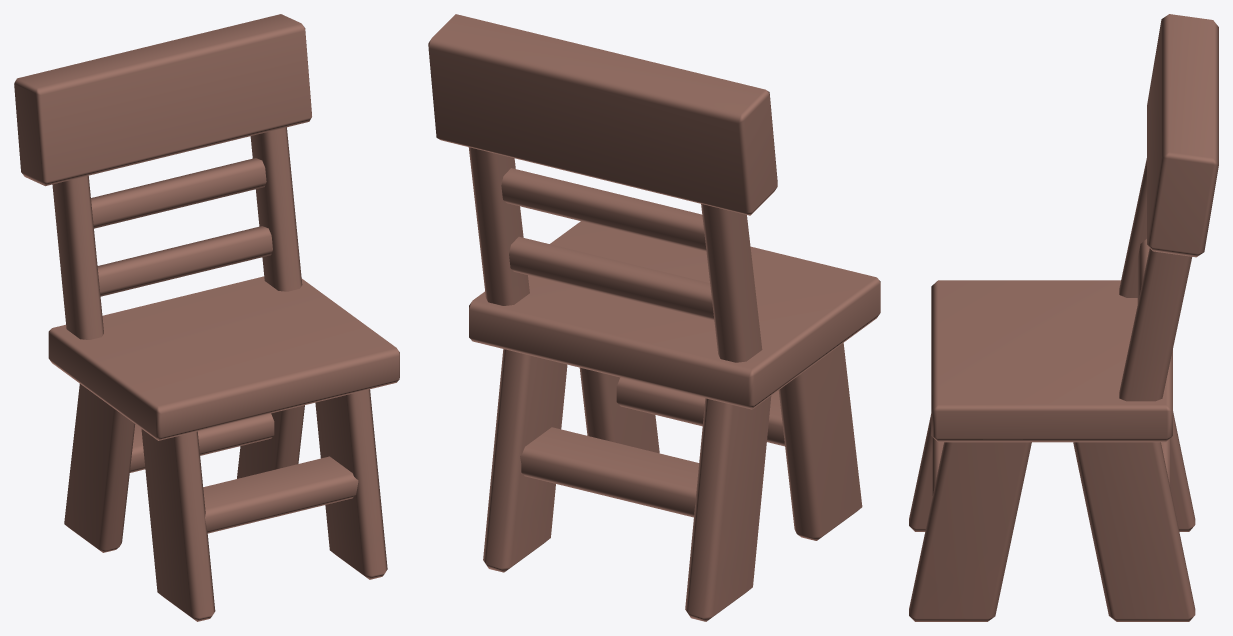
The model's file is Store_5_Chair_1.glb.
The picture shows the model from 3 angles, left to right: view 1: azimuth 30°, elevation 25°; view 2: azimuth 150°, elevation 25°; view 3: azimuth 270°, elevation 25°; orthographic projection. The views are drawn at different scales.
Visible parts, largest first — view 1: Store_5_Chair_1; view 2: Store_5_Chair_1; view 3: Store_5_Chair_1.
Part boxes in pixels (left/top/right/bottom): Store_5_Chair_1: left=14, top=14, right=399, bottom=621; Store_5_Chair_1: left=428, top=14, right=880, bottom=621; Store_5_Chair_1: left=909, top=14, right=1218, bottom=621.
Size of the model in its own units: 0.751 by 1.22 by 0.6982.
1 material, 1 textured.
